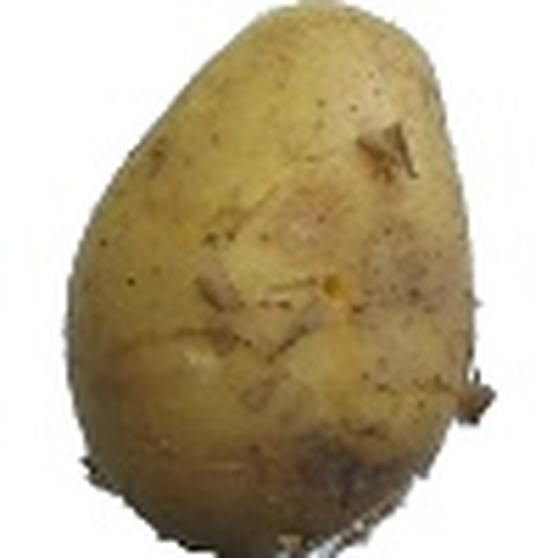potato: (33, 5, 531, 553)
